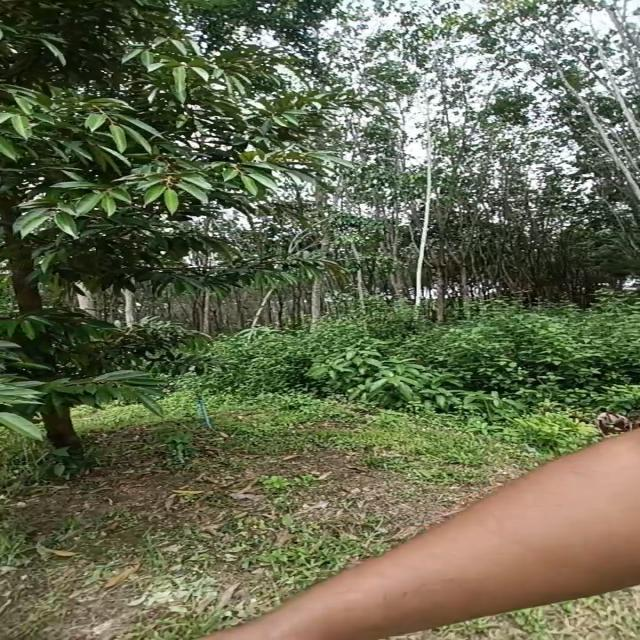Tree: (0, 5, 339, 497)
